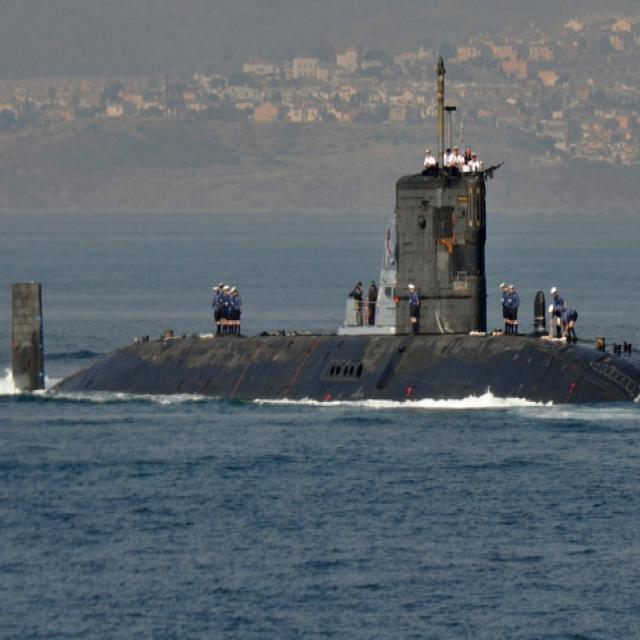submarine: (4, 168, 640, 406)
